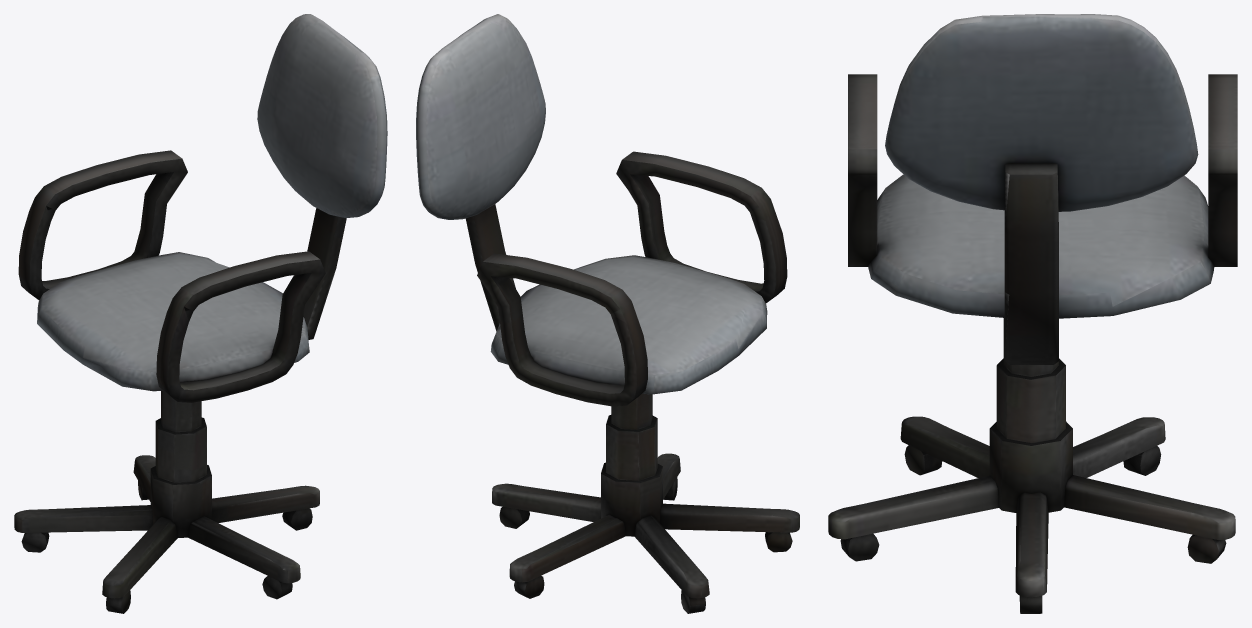
Rendered from chair_chair_23b0a001-e6cd-50d1-a4c4-bdc9fbe27e3a.glb.
3 views of the same model, side by side, from view 1: azimuth 30°, elevation 25°; view 2: azimuth 150°, elevation 25°; view 3: azimuth 270°, elevation 25° (orthographic). The views are drawn at different scales.
Parts seen in each view (by area): view 1: raw_model.obj; view 2: raw_model.obj; view 3: raw_model.obj.
Part boxes in pixels (box(x1,y1,x2,y2)): raw_model.obj: box(14, 14, 387, 613); raw_model.obj: box(416, 14, 799, 613); raw_model.obj: box(828, 14, 1237, 613).
Bounding box in the file's own units: 0.5734 × 0.9039 × 0.5369.
1 material, 1 textured.
